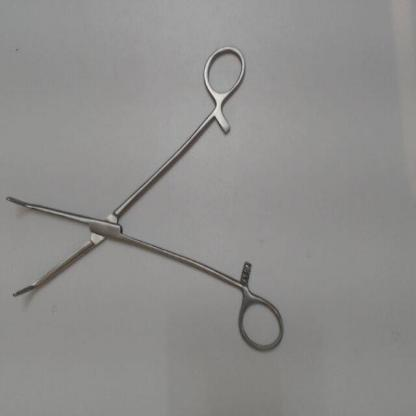Lahey Forceps: (1, 39, 288, 359)
